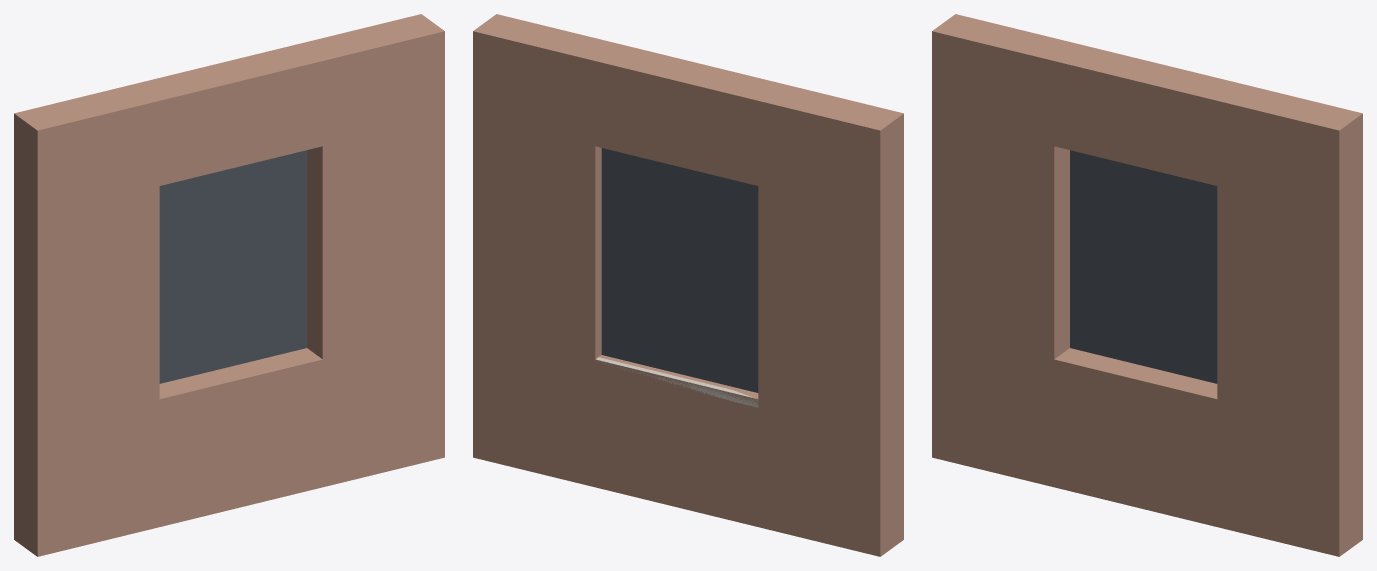
The model's file is fac_brick_win_a.glb.
3 renders of one model, left to right at view 1: azimuth 30°, elevation 25°; view 2: azimuth 150°, elevation 25°; view 3: azimuth 330°, elevation 25°, orthographic.
Visible parts, largest first — view 1: fac_brick_win_a; view 2: fac_brick_win_a; view 3: fac_brick_win_a.
Part boxes in pixels (box(x1,y1,x2,y2)): fac_brick_win_a: box(14, 14, 444, 556); fac_brick_win_a: box(473, 14, 903, 556); fac_brick_win_a: box(932, 14, 1362, 556).
Size of what is drawn, in the model's own units: 3 by 3 by 0.3.
